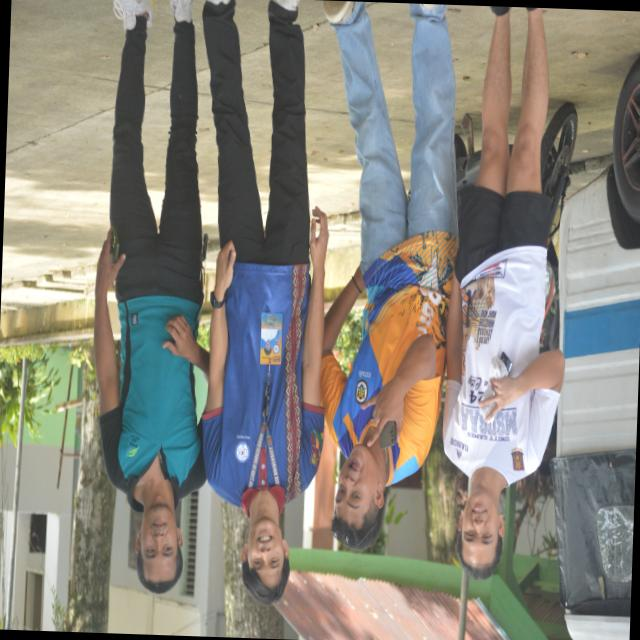person: (202, 0, 327, 603), (320, 0, 456, 549), (443, 6, 563, 577), (94, 0, 207, 592)
